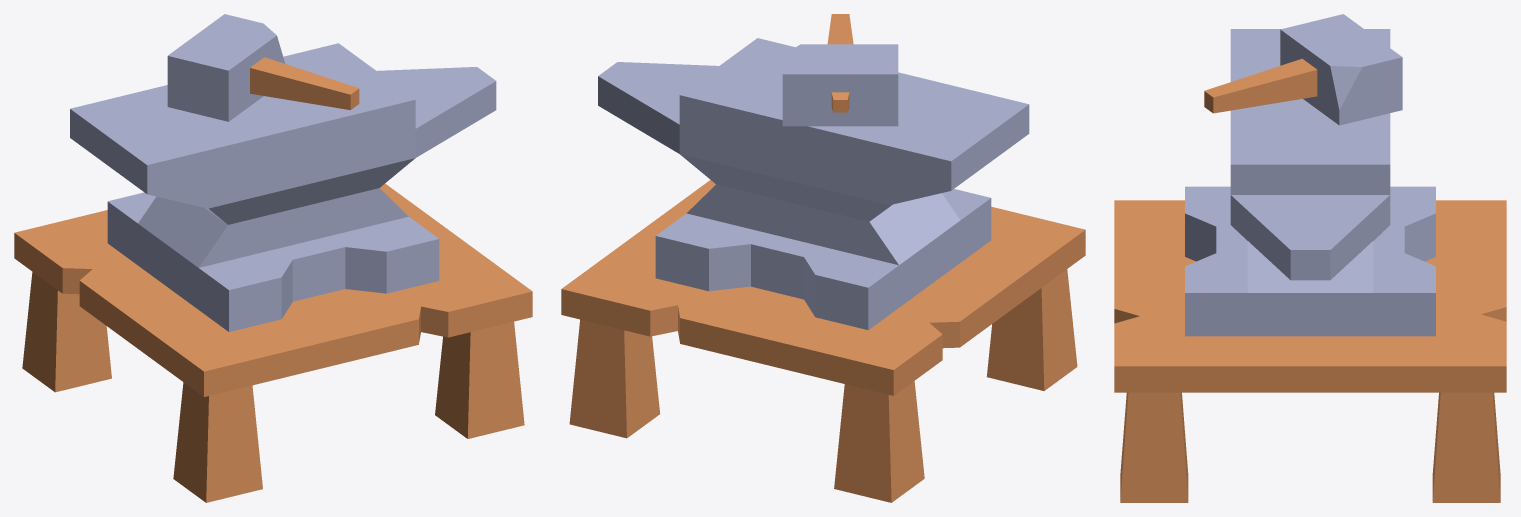
The model's file is workbenchAnvil.fbx.
The picture shows the model from 3 angles, left to right: view 1: azimuth 30°, elevation 25°; view 2: azimuth 150°, elevation 25°; view 3: azimuth 270°, elevation 25°; orthographic projection. The views are drawn at different scales.
Visible parts, largest first — view 1: workbenchAnvil, hammer; view 2: workbenchAnvil, hammer; view 3: workbenchAnvil, hammer.
Boxes of the visible parts, x1,y1,x2,y2 form: workbenchAnvil: (14,43,532,502); hammer: (167,14,359,121); workbenchAnvil: (561,38,1085,502); hammer: (782,14,898,126); workbenchAnvil: (1114,29,1506,502); hammer: (1204,14,1402,125).
Size of the model in its own units: 12.37 by 10.98 by 10.75.
